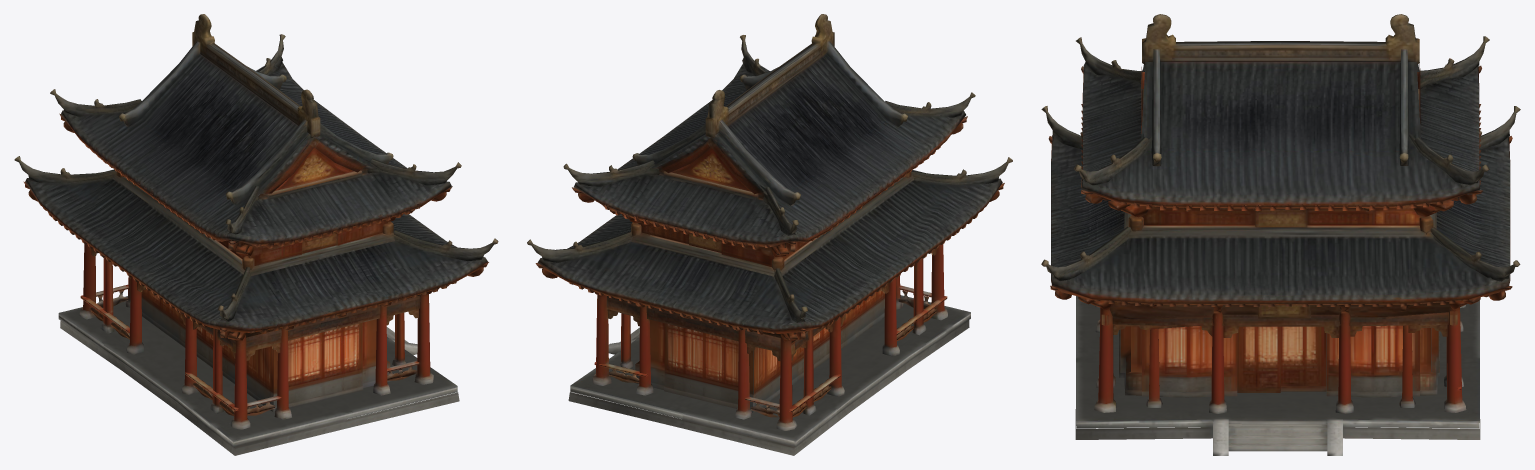
File: 中式建筑3d模型.glb
3 views of the same model, side by side, from view 1: azimuth 30°, elevation 25°; view 2: azimuth 150°, elevation 25°; view 3: azimuth 270°, elevation 25° (orthographic). The views are drawn at different scales.
Parts seen in each view (by area): view 1: df9ff61e_4707_4f39_acca_cbbbe4dabae0; view 2: df9ff61e_4707_4f39_acca_cbbbe4dabae0; view 3: df9ff61e_4707_4f39_acca_cbbbe4dabae0.
Boxes of the visible parts, <box> form: df9ff61e_4707_4f39_acca_cbbbe4dabae0: <box>14,14,498,455</box>; df9ff61e_4707_4f39_acca_cbbbe4dabae0: <box>527,14,1012,455</box>; df9ff61e_4707_4f39_acca_cbbbe4dabae0: <box>1041,14,1520,455</box>.
Size of the model in its own units: 0.7837 by 0.8306 by 0.9995.
Materials: 1 (1 with a texture image).
